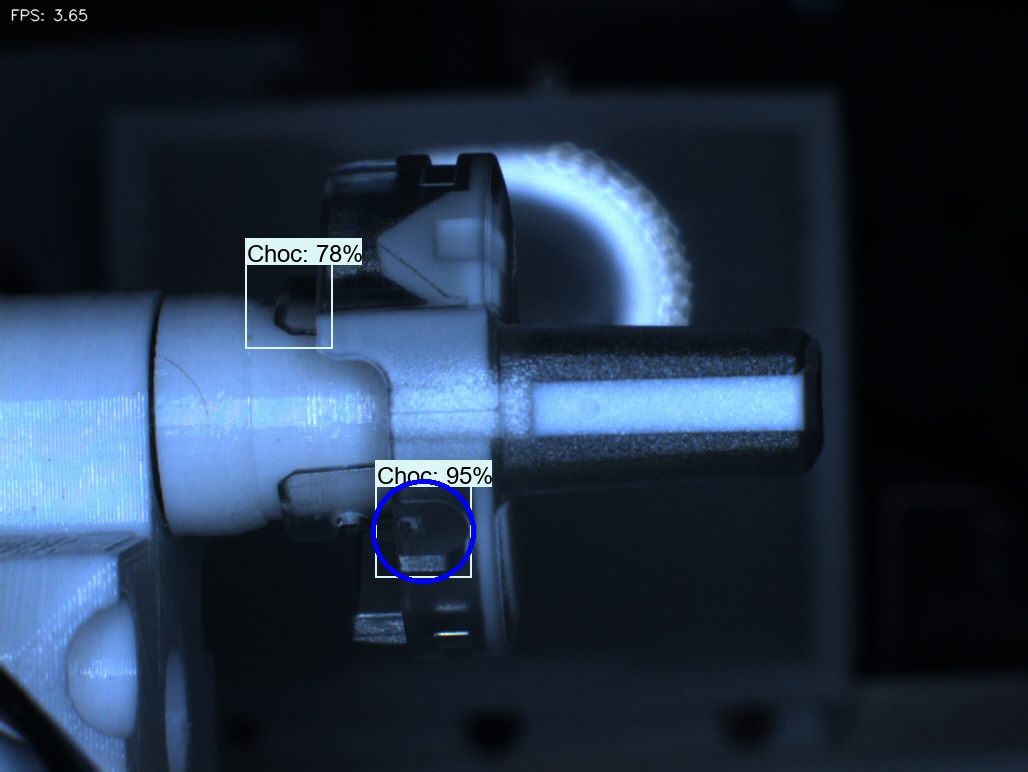DentOk: (356, 194, 426, 296)
